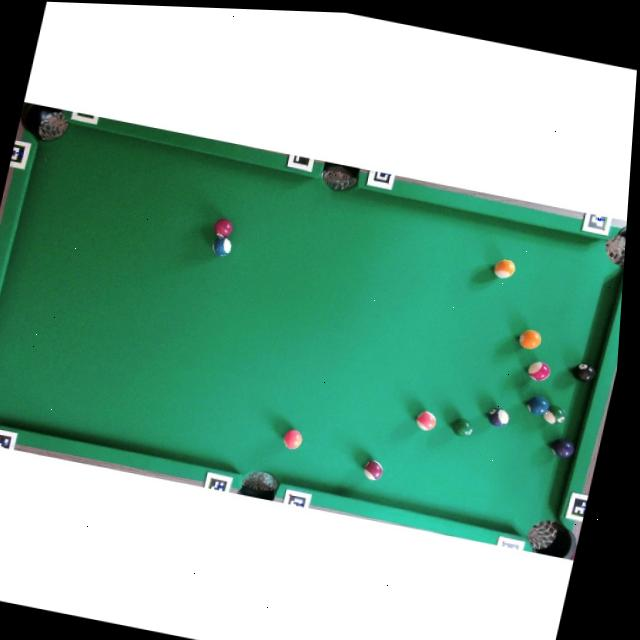other: (547, 436, 577, 460), (516, 327, 543, 351), (525, 360, 552, 384), (524, 394, 551, 417), (542, 403, 568, 426), (571, 362, 598, 384), (492, 257, 517, 280), (485, 406, 511, 428), (281, 427, 304, 451), (362, 459, 385, 483), (414, 409, 438, 432), (212, 217, 235, 240), (211, 235, 233, 258), (451, 417, 474, 438)
